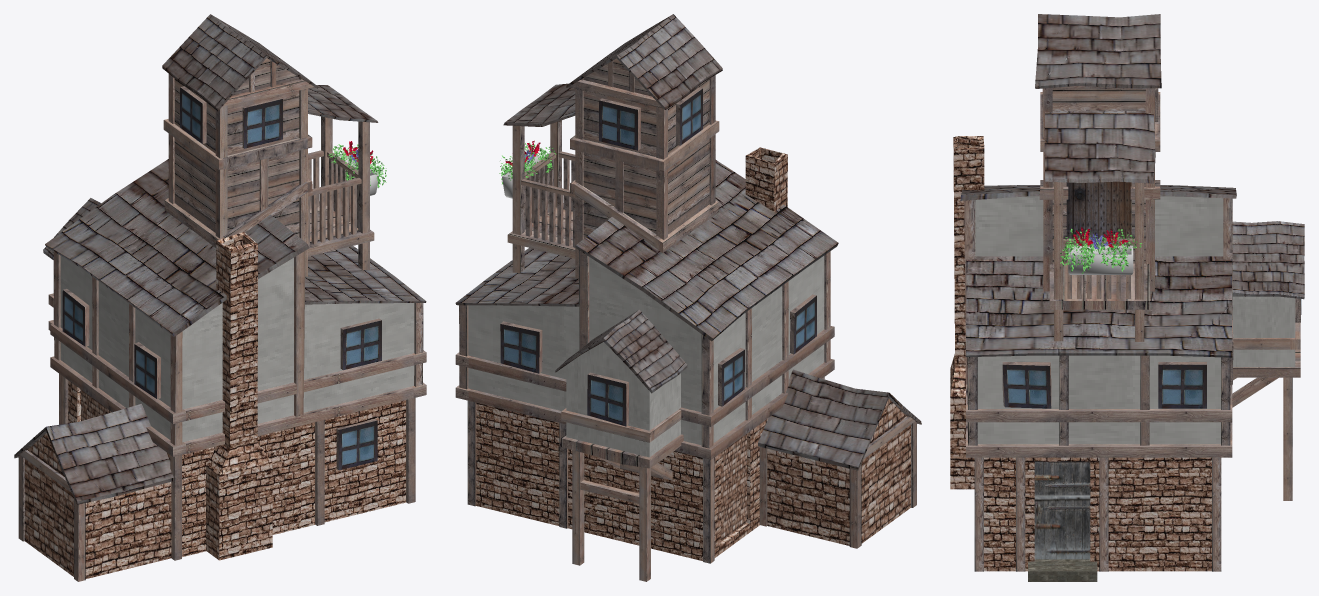
The model's file is fantasy_house_with_balcony.fbx.
3 views of the same model, side by side, from view 1: azimuth 30°, elevation 25°; view 2: azimuth 150°, elevation 25°; view 3: azimuth 270°, elevation 25° (orthographic). The views are drawn at different scales.
Parts seen in each view (by area): view 1: House6; view 2: House6; view 3: House6.
Part boxes in pixels (<box>): House6: <box>14,14,426,581</box>; House6: <box>455,14,921,581</box>; House6: <box>950,14,1304,581</box>.
Size of what is drawn, in the model's own units: 710 by 871 by 564.
